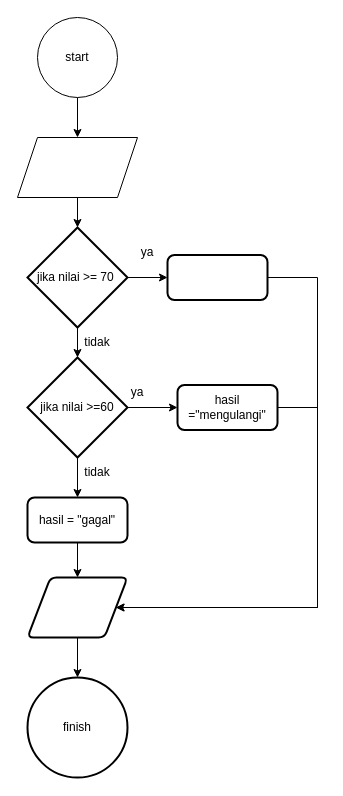
Some shapes in this 343 by 796 pixel diagram are drawn without their labels. The centre of each missing label's shape, as x and y in pixels:
hasil: point 77,607
hasil = "lulus": point 217,277
input nilai: point 77,167
